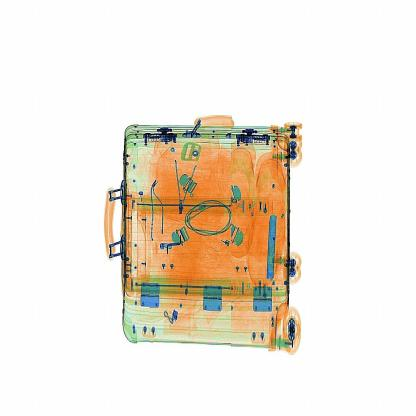pliers: (264, 213, 280, 283)
